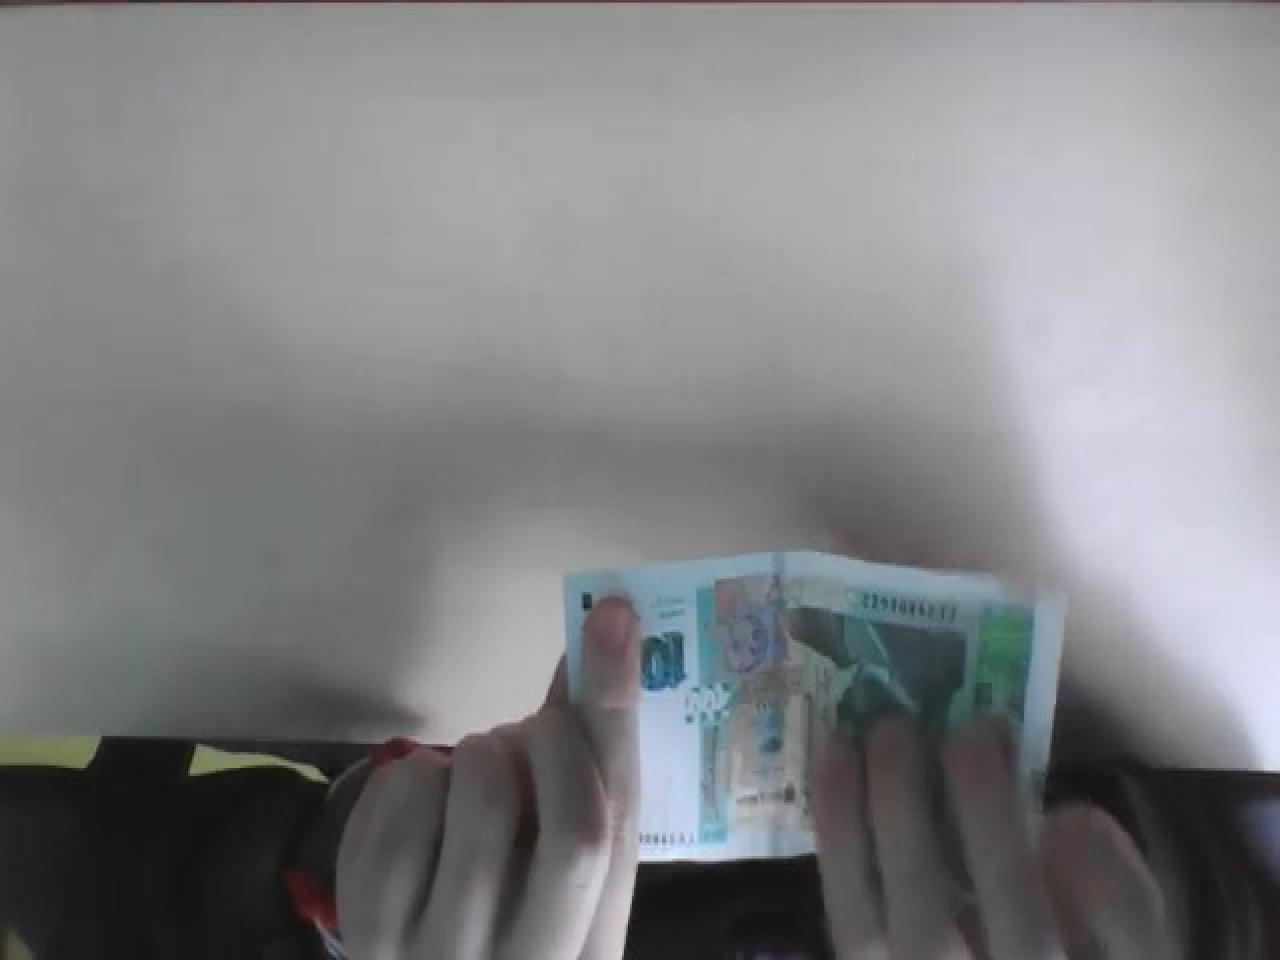100leva: (562, 547, 1070, 872)
